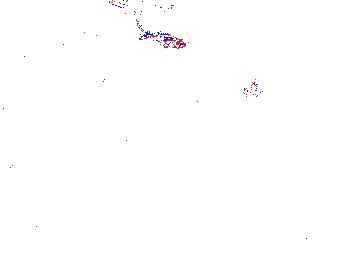X-ray fish: (115, 118, 159, 147)
red belly glassfish: (138, 31, 186, 51), (242, 81, 269, 101)
